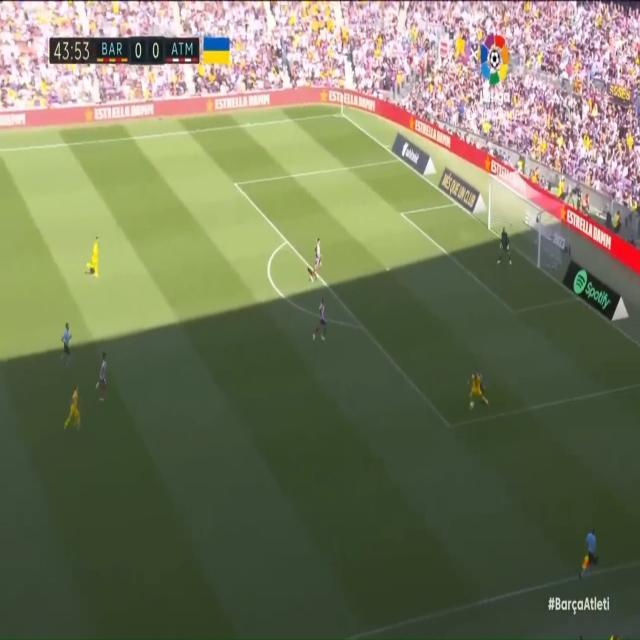ball: (466, 401, 478, 411)
goalkeeper: (496, 224, 514, 268)
player: (65, 388, 85, 433), (85, 231, 103, 280), (93, 350, 108, 404), (315, 300, 331, 349), (310, 234, 327, 271), (470, 373, 482, 408), (479, 372, 488, 407)
referee: (575, 526, 607, 583), (57, 322, 75, 370)
